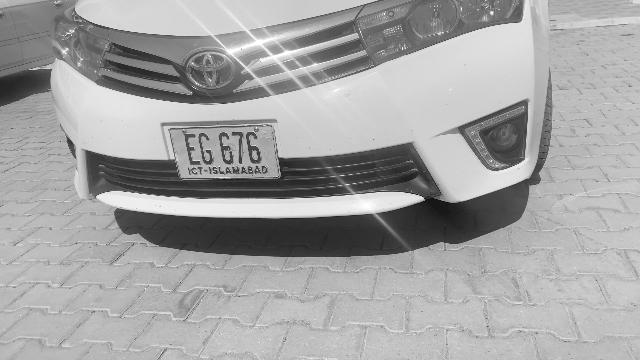Number: (178, 131, 268, 170)
